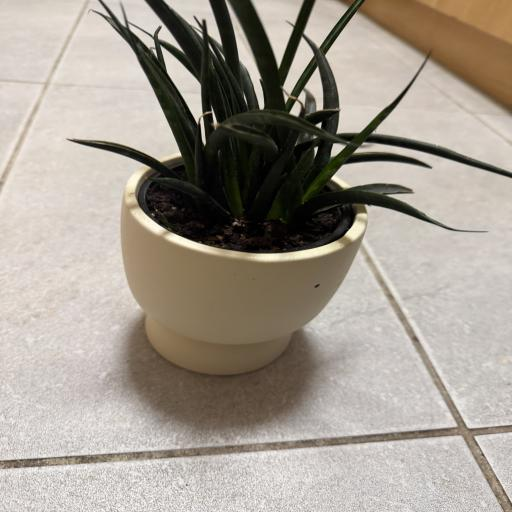Plant Pot: (112, 149, 368, 376)
